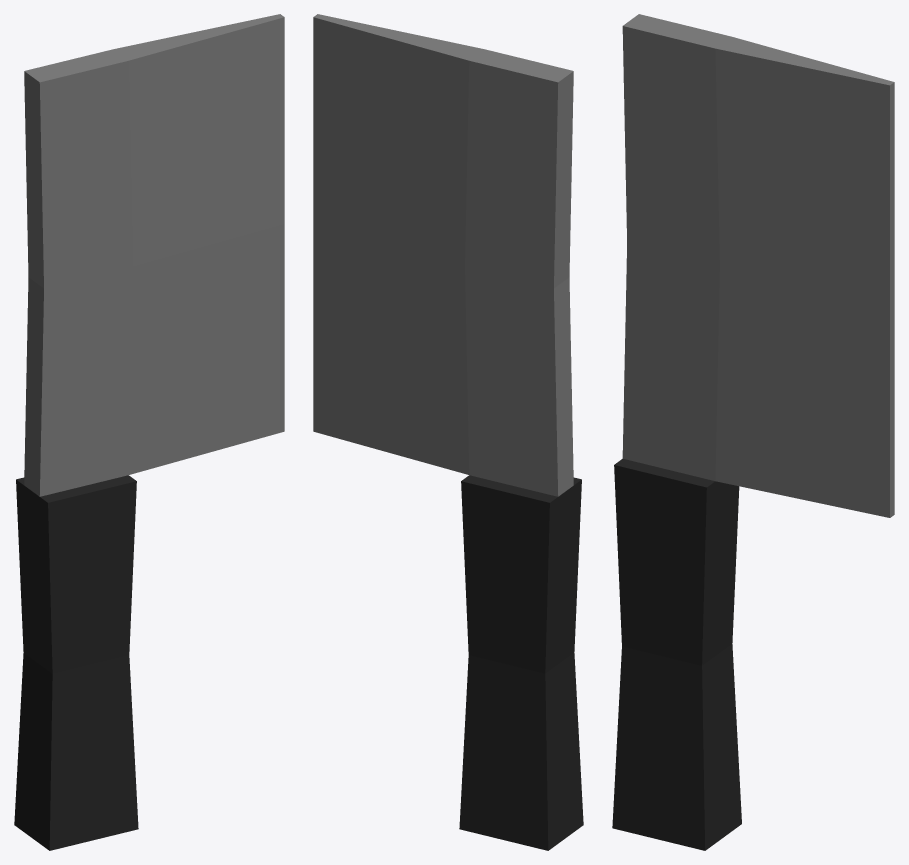
File: ButcherKnife.fbx
3 renders of one model, left to right at view 1: azimuth 30°, elevation 25°; view 2: azimuth 150°, elevation 25°; view 3: azimuth 330°, elevation 25°, orthographic. The views are drawn at different scales.
Visible parts, largest first — view 1: ButcherKnife; view 2: ButcherKnife; view 3: ButcherKnife.
Part boxes in pixels (x1,y1,x2,y2): ButcherKnife: [14, 14, 284, 850]; ButcherKnife: [313, 14, 583, 850]; ButcherKnife: [612, 14, 894, 850].
Size of the model in its own units: 0.0917 by 0.2664 by 0.0224.
